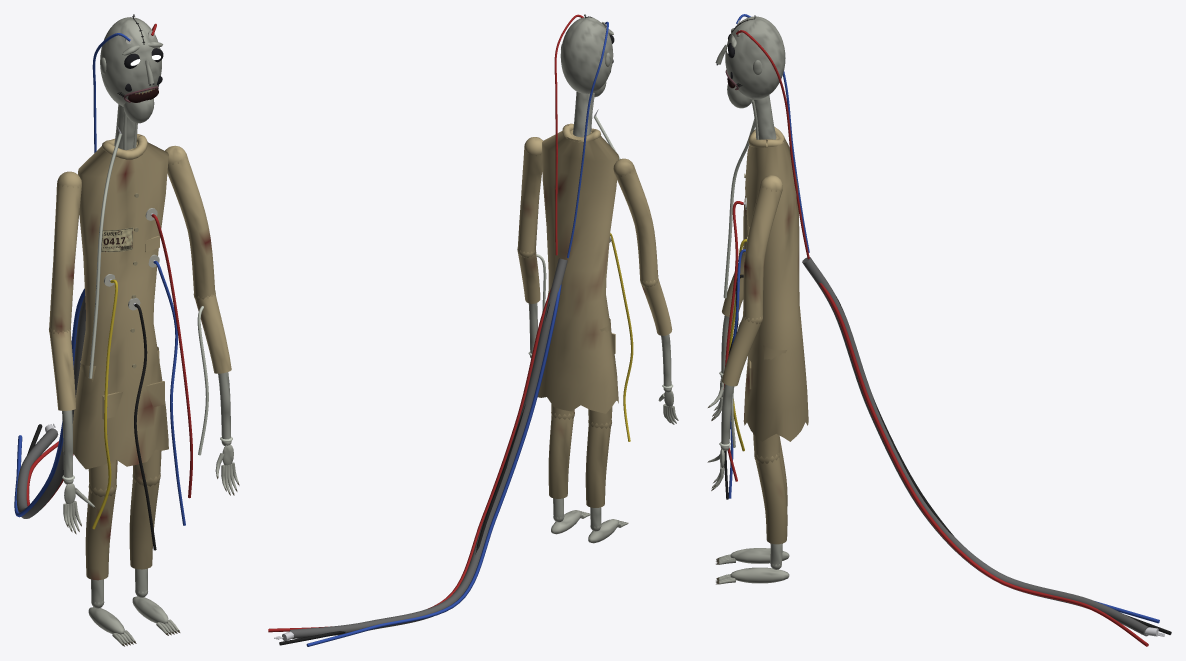
The model's file is horror_lab_monster.glb.
3 views of the same model, side by side, from view 1: azimuth 30°, elevation 25°; view 2: azimuth 150°, elevation 25°; view 3: azimuth 270°, elevation 25° (orthographic). The views are drawn at different scales.
Parts seen in each view (by area): view 1: Spine_Chest, Head, Back_Cable, R_UpperArm, L_UpperArm, L_Forearm, R_Shin, L_Shin, R_Forearm, Neck, R_Foot, L_Foot (+4 smaller); view 2: Spine_Chest, Back_Cable, Head, R_UpperArm, L_UpperArm, R_Shin, L_Shin, L_Forearm, R_Forearm, Neck; view 3: Spine_Chest, Back_Cable, Head, L_UpperArm, L_Shin, L_Forearm, Neck, L_Foot, R_Forearm, R_Foot, L_Thigh.
Part boxes in pixels (x1,y1,x2,y2): Spine_Chest: [72, 134, 192, 550]; Head: [92, 14, 163, 152]; Back_Cable: [14, 288, 85, 518]; R_UpperArm: [49, 171, 81, 332]; L_UpperArm: [165, 145, 215, 298]; L_Forearm: [193, 291, 231, 455]; R_Shin: [85, 484, 116, 604]; L_Shin: [129, 472, 160, 593]; R_Forearm: [49, 326, 75, 477]; Neck: [88, 104, 137, 378]; R_Foot: [88, 600, 136, 646]; L_Foot: [132, 590, 180, 635]; Spine_Chest: [537, 123, 633, 441]; Back_Cable: [268, 258, 567, 646]; Head: [554, 14, 614, 258]; R_UpperArm: [613, 158, 658, 283]; L_UpperArm: [517, 137, 542, 253]; R_Shin: [585, 420, 611, 527]; L_Shin: [548, 410, 574, 519]; L_Forearm: [517, 248, 546, 353]; R_Forearm: [640, 277, 672, 386]; Neck: [573, 92, 620, 159]; Spine_Chest: [723, 127, 808, 499]; Back_Cable: [802, 257, 1171, 646]; Head: [715, 14, 809, 259]; L_UpperArm: [743, 175, 782, 320]; L_Shin: [754, 453, 787, 565]; L_Forearm: [721, 315, 762, 447]; Neck: [723, 95, 776, 298]; L_Foot: [716, 563, 789, 584]; R_Forearm: [721, 252, 745, 373]; R_Foot: [716, 548, 789, 564]; L_Thigh: [753, 345, 786, 458].
Size of the model in its own units: 1.14 by 2.67 by 2.
19 materials, 1 textured.
